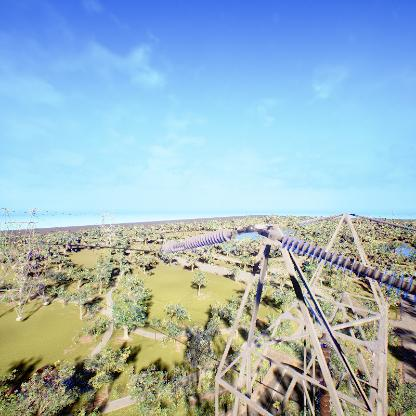insulator: (163, 227, 234, 254)
